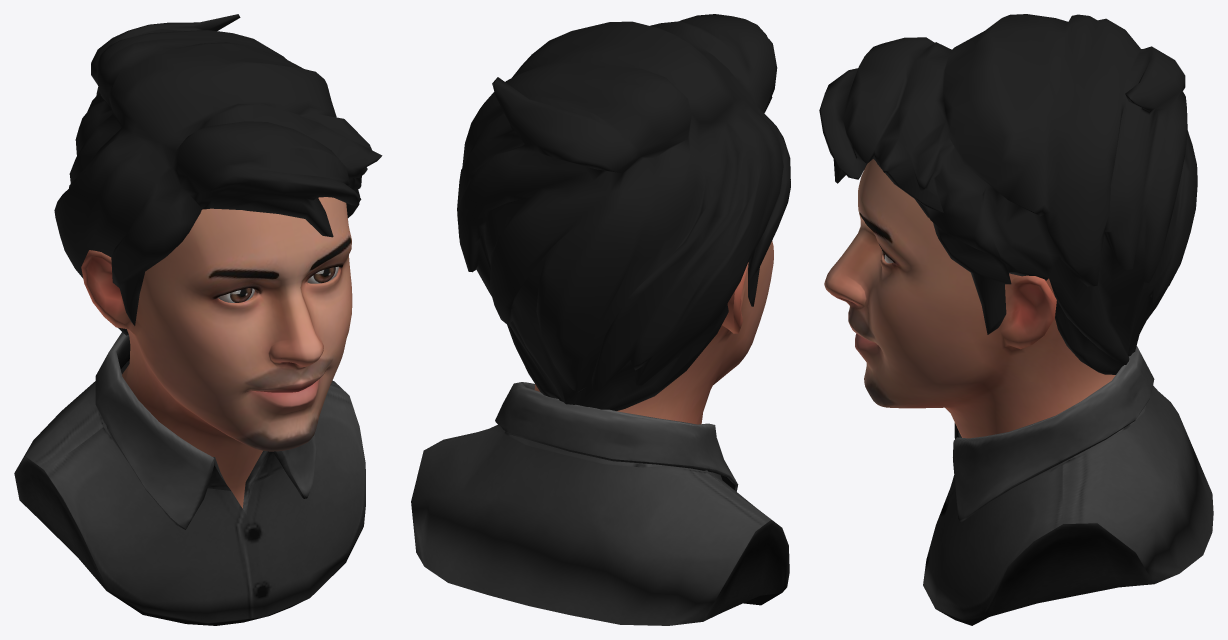
Rendered from CloseUpReduced.glb.
3 renders of one model, left to right at view 1: azimuth 30°, elevation 25°; view 2: azimuth 150°, elevation 25°; view 3: azimuth 270°, elevation 25°, orthographic. The views are drawn at different scales.
Parts seen in each view (by area): view 1: Wolf3D_Shirt, Wolf3D_Hair, Wolf3D_Head; view 2: Wolf3D_Hair, Wolf3D_Shirt, Wolf3D_Head; view 3: Wolf3D_Hair, Wolf3D_Shirt, Wolf3D_Head.
Boxes of the visible parts, x1,y1,x2,y2 form: Wolf3D_Shirt: (14, 332, 365, 625); Wolf3D_Hair: (54, 14, 382, 335); Wolf3D_Head: (81, 197, 352, 508); Wolf3D_Hair: (457, 14, 790, 410); Wolf3D_Shirt: (411, 382, 789, 625); Wolf3D_Head: (534, 241, 773, 424); Wolf3D_Hair: (819, 14, 1197, 374); Wolf3D_Shirt: (923, 346, 1213, 625); Wolf3D_Head: (824, 159, 1115, 438).
Size of the model in its own units: 0.2312 by 0.3866 by 0.2489.
Materials: 5 (5 with a texture image).
